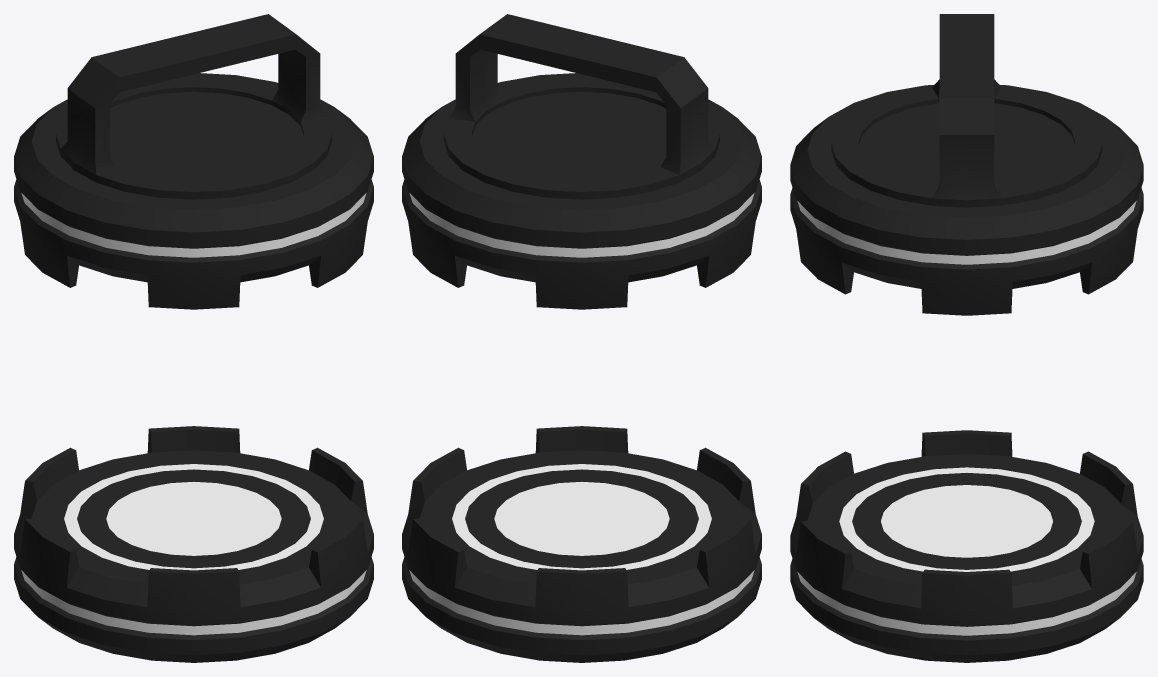
Rendered from NoxiousSlimeCaseMesh.obj.
The picture shows the model from 3 angles, left to right: view 1: azimuth 30°, elevation 25°; view 2: azimuth 150°, elevation 25°; view 3: azimuth 270°, elevation 25°; orthographic projection.
Visible parts, largest first — view 1: NoxiousSlimeCaseMesh_Noxious_Slimes_Case; view 2: NoxiousSlimeCaseMesh_Noxious_Slimes_Case; view 3: NoxiousSlimeCaseMesh_Noxious_Slimes_Case.
Part boxes in pixels (x1,y1,x2,y2): NoxiousSlimeCaseMesh_Noxious_Slimes_Case: (14, 14, 373, 662); NoxiousSlimeCaseMesh_Noxious_Slimes_Case: (402, 14, 761, 662); NoxiousSlimeCaseMesh_Noxious_Slimes_Case: (790, 14, 1143, 662).
Bounding box in the file's own units: 1.62 × 2.76 × 1.62.
1 material, 1 textured.
